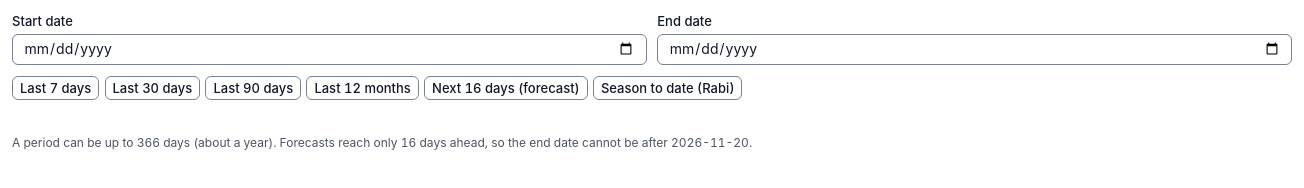
Scenario: DateRangeField › can still edit one date after a preset
Click the button "Last 30 days" at x=152, y=88, box [104,76,200,100]
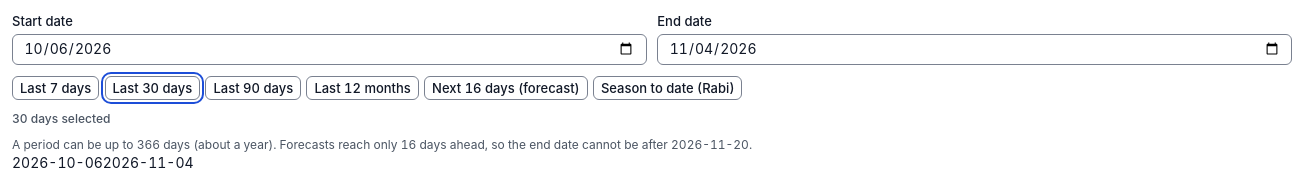
Type "2026-11-01" into the date field labelled "End date" at x=975, y=49, box [657,34,1292,65]
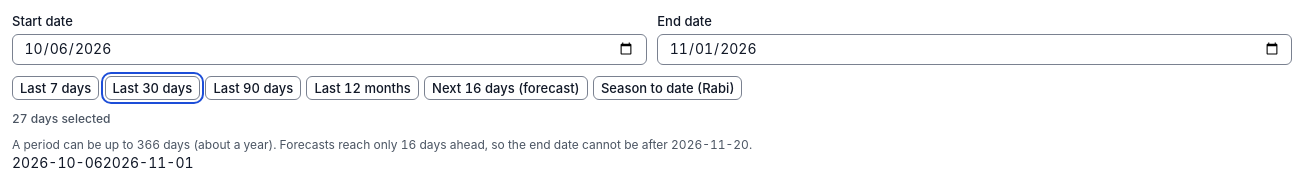
Now the text with test id "start" reads "2026-10-06", box [12,154,103,171]
Now the text with test id "end" reads "2026-11-01", box [103,154,194,171]
